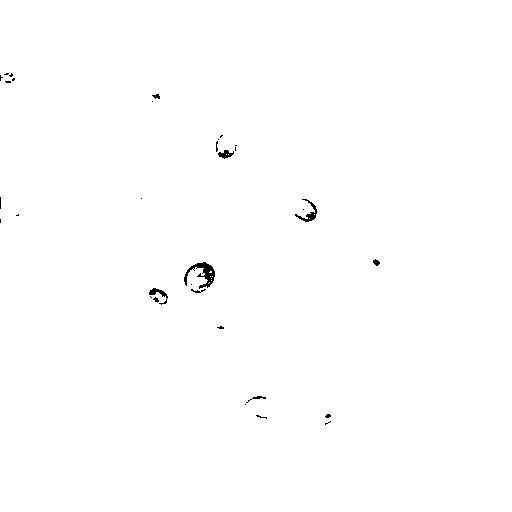micro-algae: (357, 242, 401, 283), (117, 186, 159, 227), (181, 260, 217, 297), (242, 395, 281, 425), (0, 151, 20, 205), (487, 383, 512, 425), (0, 194, 30, 225), (311, 397, 344, 425), (289, 195, 319, 225), (213, 129, 239, 160), (149, 286, 171, 307), (2, 71, 15, 83)
